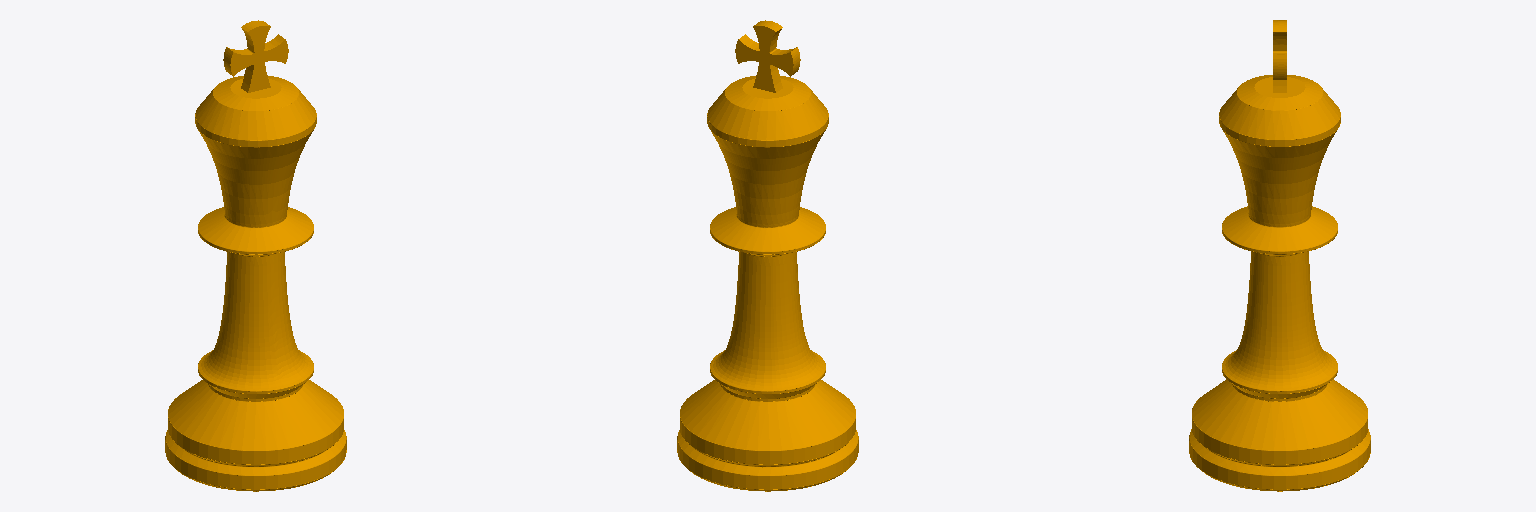
The robot description file, URDF, robot "King_W":
<?xml version="1.0" encoding="utf-8"?>
<robot name="King_W">
  <link name="piece_body">
    <inertial>
      <mass value="0.066"/>
      <origin xyz="-1.601E-08 -1.691E-08 0.036" rpy="0 0 0"/>
      <inertia ixx="7.320E-05" ixy="0.00" ixz="0.00" iyy="7.321E-05" iyz="0.00" izz="8.252E-06"/>
    </inertial>
    <collision>
      <origin rpy="0 0 0" xyz="0 0 0.0565"/>
      <geometry>
        <cylinder radius="0.0215" length="0.113"/>
      </geometry>
    </collision>
    <collision>
      <origin rpy="0 0 0" xyz="0.017 0.0 0"/>
      <geometry>
        <sphere radius="0.001"/>
      </geometry>
    </collision>
    <collision>
      <origin rpy="0 0 0" xyz="-0.009 0.015 0"/>
      <geometry>
        <sphere radius="0.001"/>
      </geometry>
    </collision>
    <collision>
      <origin rpy="0 0 0" xyz="-0.009 -0.015 0"/>
      <geometry>
        <sphere radius="0.001"/>
      </geometry>
    </collision>
    <visual>
      <origin rpy="0 0 0"/>
      <geometry>
        <mesh filename="King_W.obj"/>
      </geometry>
    </visual>
  </link>
</robot>

--- Facts derived from the render (not from the file) ---
3 views of the same robot in one strip: view 1: azimuth 30°, elevation 25°; view 2: azimuth 150°, elevation 25°; view 3: azimuth 270°, elevation 25° (orthographic).
Model King_W with 1 links and 0 joints (none), rooted at piece_body, posed all joints at 0.
Visible links, largest first — view 1: piece_body; view 2: piece_body; view 3: piece_body.
Boxes of the visible links, x1=… form: piece_body: x1=165, y1=20, x2=346, y2=491; piece_body: x1=677, y1=20, x2=858, y2=491; piece_body: x1=1189, y1=20, x2=1370, y2=491.
Size in the robot's own frame: 0.043 by 0.043 by 0.1127 metres.
1 mesh visuals loaded from 1 distinct referenced files (1 OBJ).
